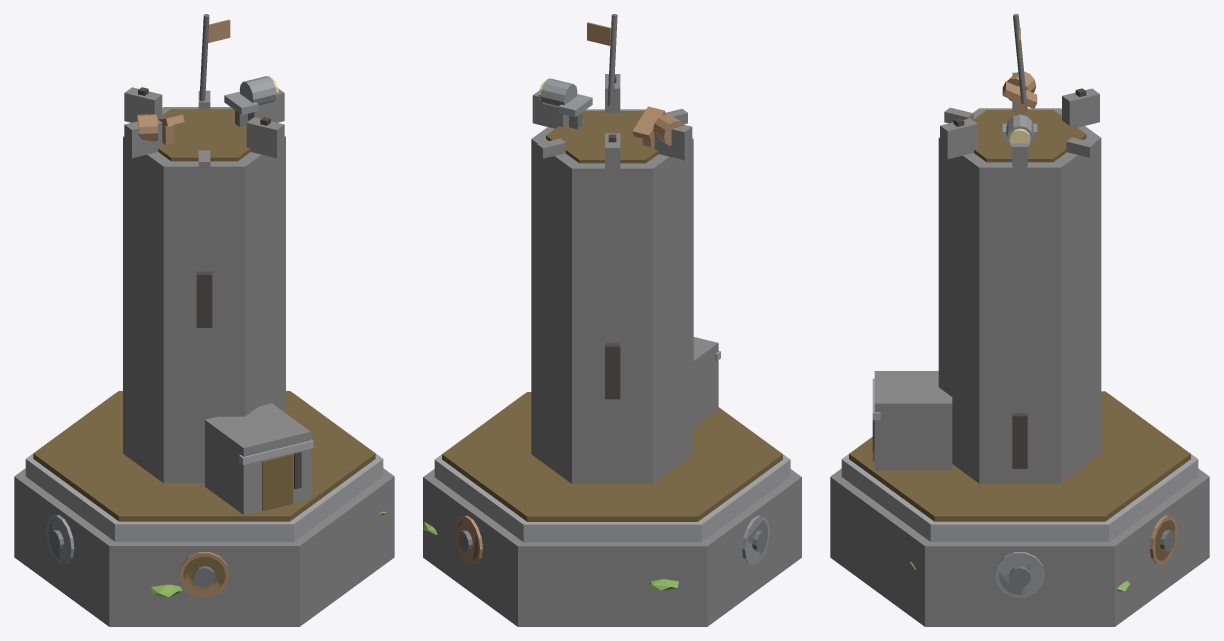
Rendered from watch_tower_s2_50.glb.
3 views of the same model, side by side, from view 1: azimuth 30°, elevation 25°; view 2: azimuth 150°, elevation 25°; view 3: azimuth 270°, elevation 25° (orthographic).
Visible parts, largest first — view 1: WT_Base; view 2: WT_Base; view 3: WT_Base.
Boxes of the visible parts, box(x1,y1,x2,y2) form: WT_Base: box(14, 14, 394, 626); WT_Base: box(423, 14, 801, 626); WT_Base: box(830, 14, 1209, 626).
Bounding box in the file's own units: 1.78 × 3.09 × 1.96.
